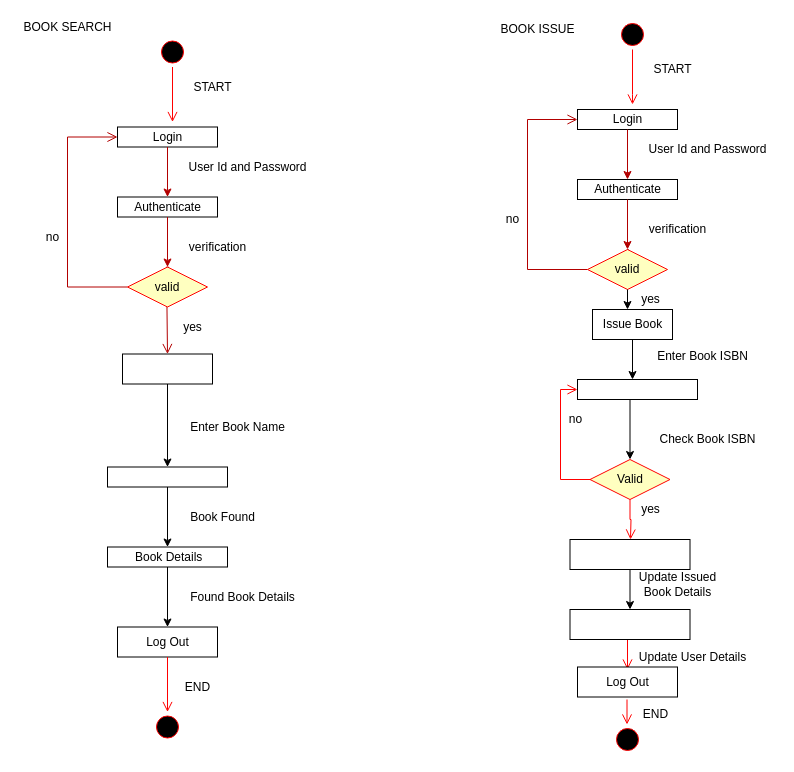
Some shapes in this 794 by 772 pixel diagram are drawn without their labels. Each missing label, with the box of its shape:
Book ISBN: (576, 378, 698, 400)
Book Name: (106, 466, 228, 487)
Issued Book Details: (569, 538, 690, 570)
Search Book: (122, 353, 212, 384)
User Details: (569, 608, 690, 640)
